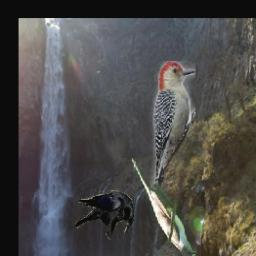Crow: (75, 190, 135, 240)
Cuckoo: (131, 156, 196, 256)
Woodpecker: (147, 62, 196, 200)
